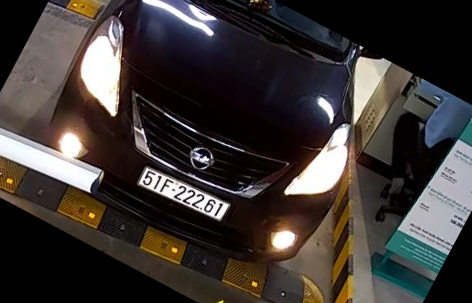plate: (136, 162, 232, 229)
